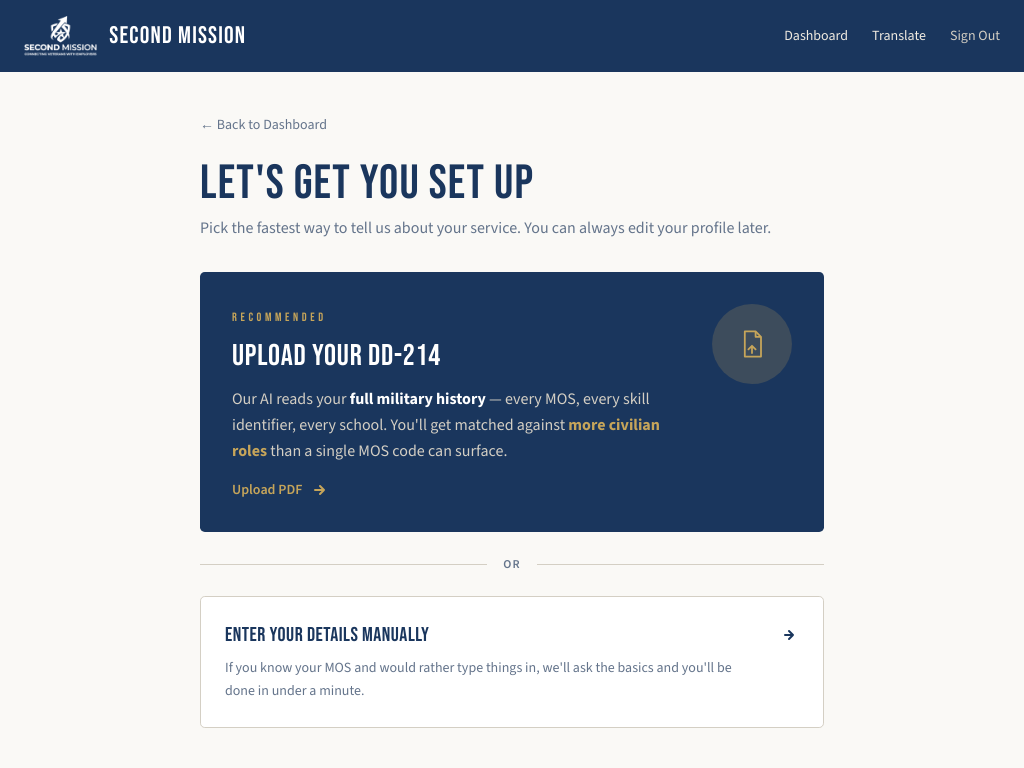
ProfilePage › goes to the upload phase when the DD-214 card is clicked
This screenshot has width=1024, height=768.
Step 1. Click the button "UPLOAD YOUR DD-214" → click(512, 402), box [200,272,824,532]
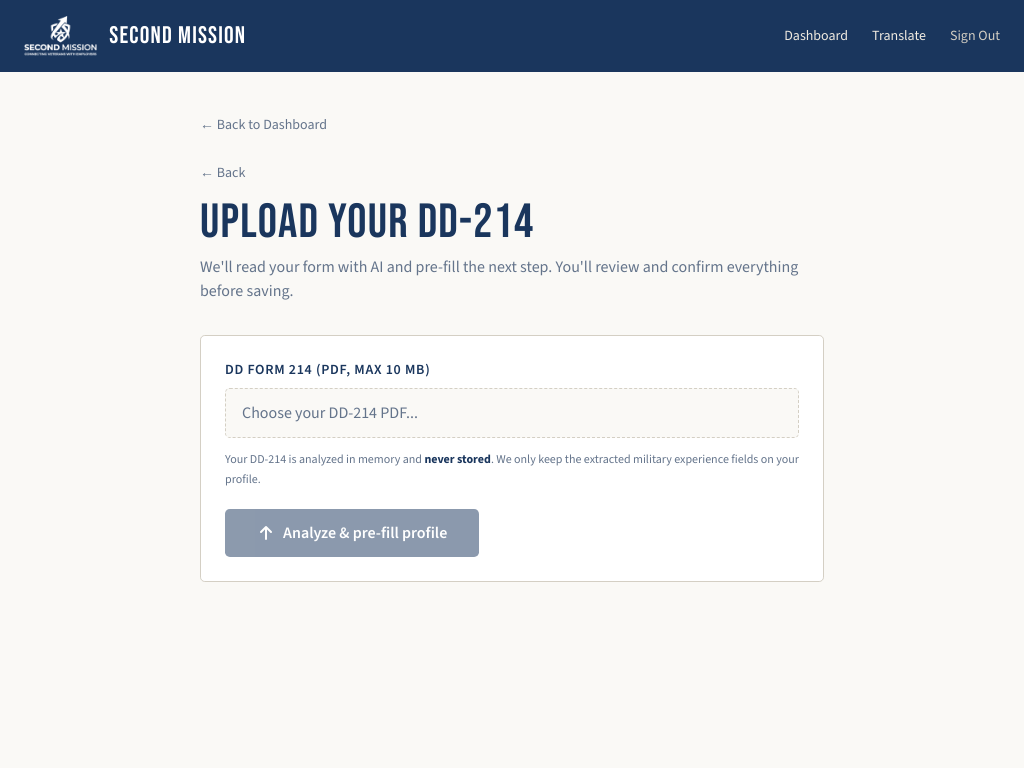
Expected: the text "Choose your DD-214 PDF..." is shown, [242,402,418,423]
Expected: the button "Analyze & pre-fill profile" is shown, [225,509,479,557]
